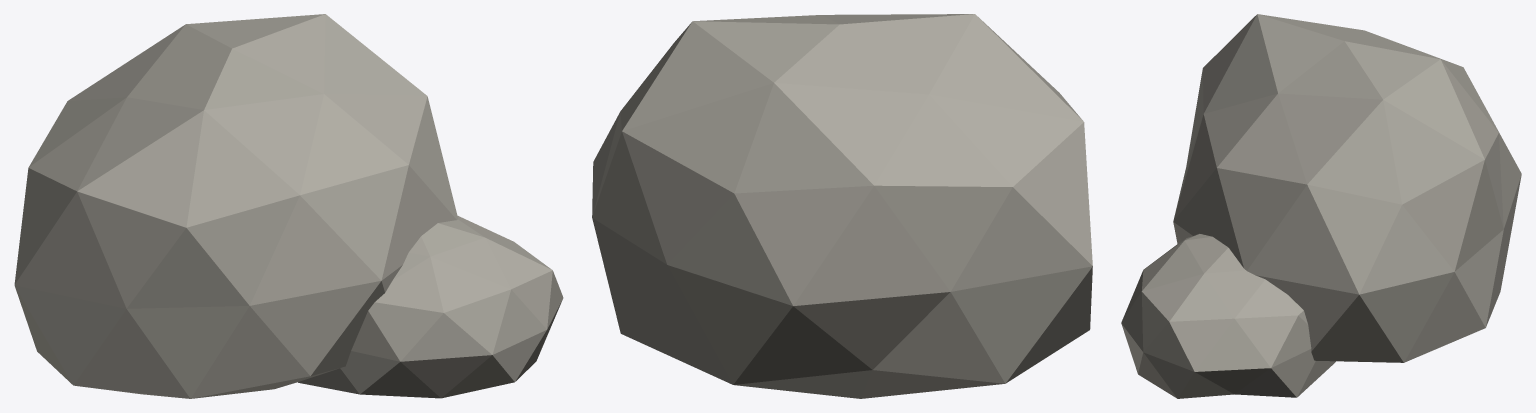
Rendered from sakura_garden_rock_a.glb.
3 views of the same model, side by side, from view 1: azimuth 30°, elevation 25°; view 2: azimuth 150°, elevation 25°; view 3: azimuth 270°, elevation 25° (orthographic). The views are drawn at different scales.
Visible parts, largest first — view 1: sakura_garden_rock_a; view 2: sakura_garden_rock_a; view 3: sakura_garden_rock_a.
Part boxes in pixels (box(x1,y1,x2,y2)): sakura_garden_rock_a: box(14, 14, 563, 398); sakura_garden_rock_a: box(592, 14, 1092, 398); sakura_garden_rock_a: box(1121, 14, 1521, 398).
Size of the model in its own units: 0.8149 by 0.4981 by 0.6659.
1 material, 1 textured.
